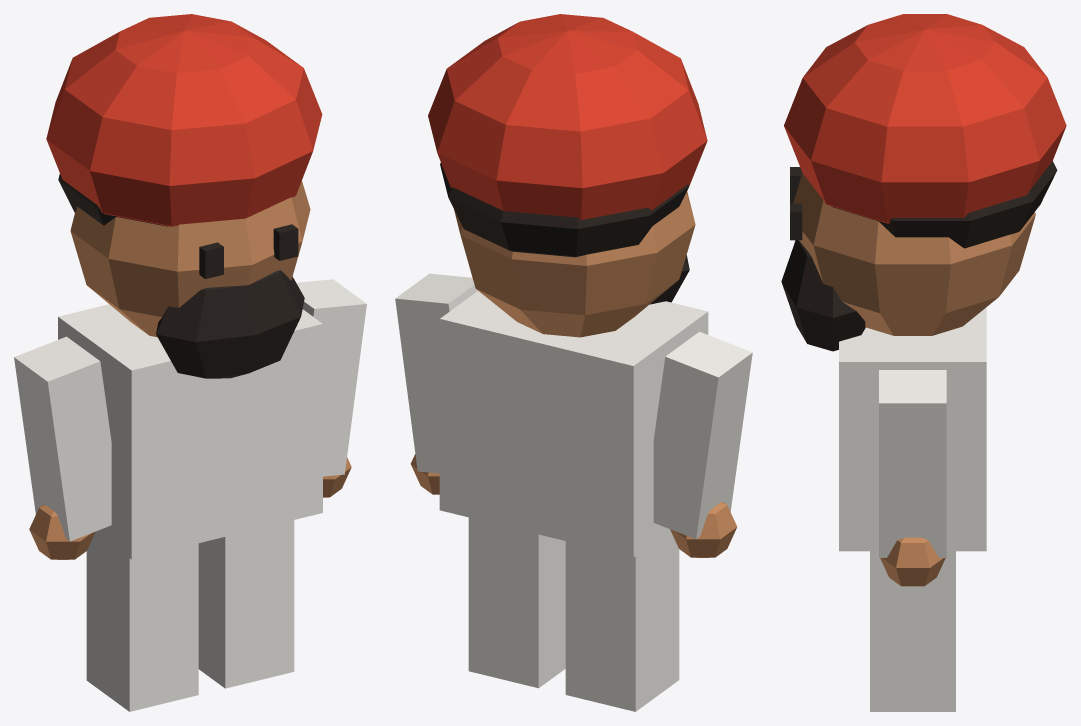
Rendered from customer_c.glb.
3 renders of one model, left to right at view 1: azimuth 30°, elevation 25°; view 2: azimuth 150°, elevation 25°; view 3: azimuth 270°, elevation 25°, orthographic.
Parts seen in each view (by area): view 1: customer_c; view 2: customer_c; view 3: customer_c.
Boxes of the visible parts, x1,y1,x2,y2 form: customer_c: [14, 14, 366, 711]; customer_c: [395, 14, 752, 711]; customer_c: [781, 14, 1066, 711].
Bounding box in the file's own units: 0.6308 × 1.21 × 0.4872.
1 material, 1 textured.
